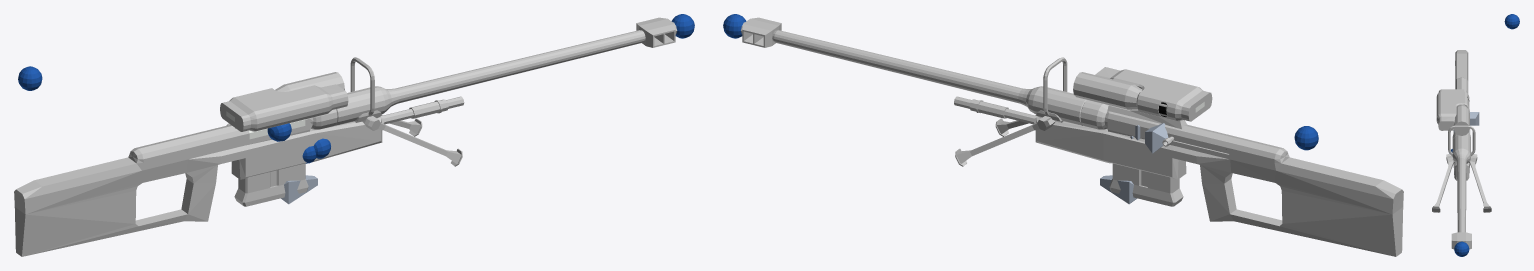
Rendered from FPSniper Life.obj.
3 renders of one model, left to right at view 1: azimuth 30°, elevation 25°; view 2: azimuth 150°, elevation 25°; view 3: azimuth 270°, elevation 25°, orthographic. The views are drawn at different scales.
Visible parts, largest first — view 1: __unnamed, frame_magazine, _flashlight, _primary_trigger; view 2: __unnamed, frame_magazine, _flashlight, frame_ophandle, _primary_trigger; view 3: __unnamed, _flashlight, _primary_trigger, frame_ophandle.
Part boxes in pixels (x1,y1,x2,y2): __unnamed: (14, 17, 677, 256); frame_magazine: (281, 175, 317, 204); _flashlight: (18, 66, 42, 90); _primary_trigger: (671, 14, 694, 38); __unnamed: (741, 17, 1403, 256); frame_magazine: (1100, 175, 1136, 204); _flashlight: (1294, 126, 1318, 150); frame_ophandle: (1145, 123, 1168, 153); _primary_trigger: (723, 14, 746, 38); __unnamed: (1432, 50, 1491, 249); _flashlight: (1504, 14, 1519, 29); _primary_trigger: (1454, 241, 1469, 256); frame_ophandle: (1469, 112, 1479, 125).
Size of the model in its own units: 63.26 by 13.92 by 11.48.
